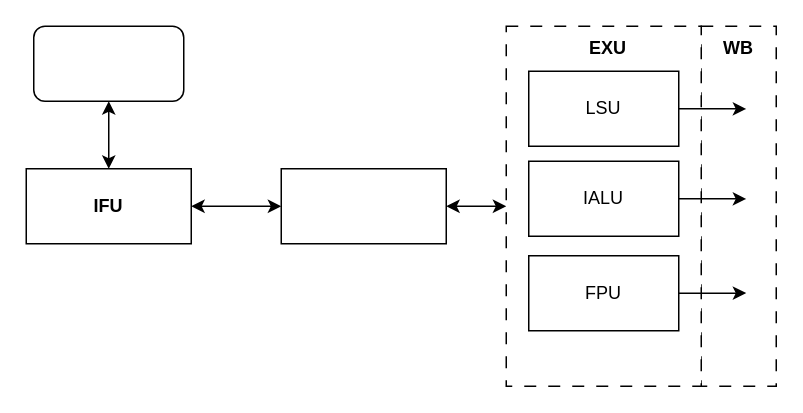
Some shapes in this 803 by 413 pixel diagram are drawn without their labels. The centre of each missing label's shape, as x and y in pixels:
IDU: the point at 363,205
Instruction Memory: the point at 108,63
